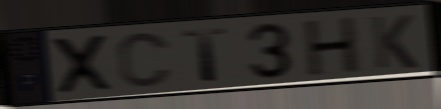3: (245, 20, 294, 82)
C: (115, 30, 175, 90)
H: (304, 14, 361, 80)
K: (368, 13, 420, 71)
T: (181, 26, 231, 84)
X: (49, 32, 116, 96)
